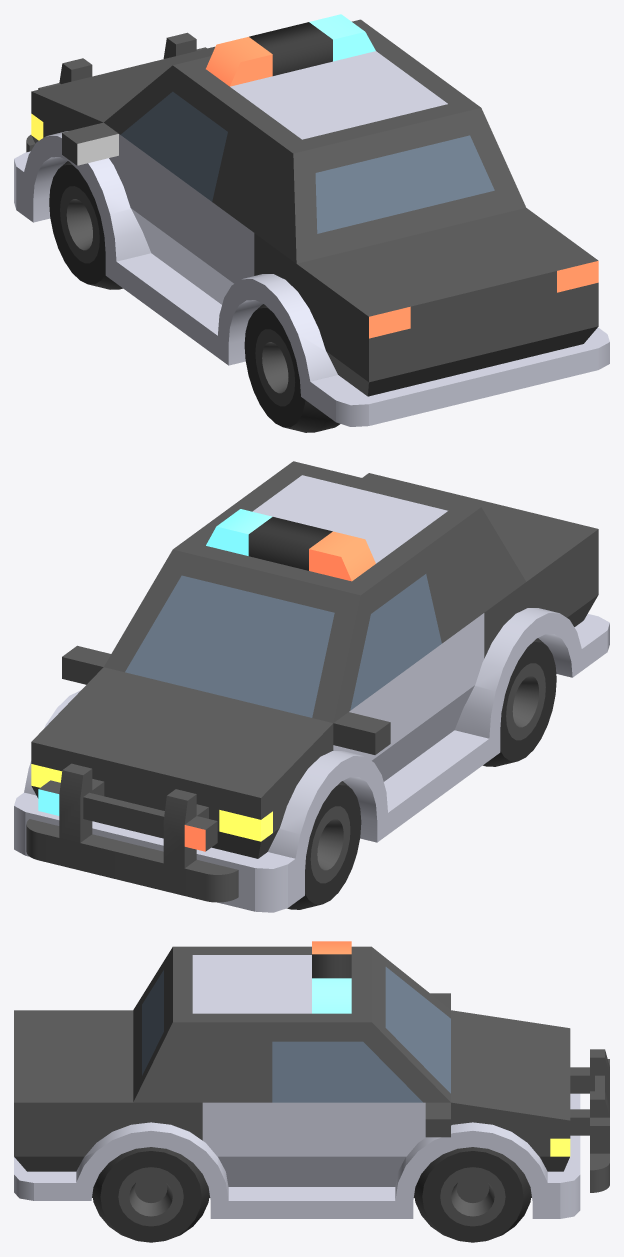
File: police.glb
3 renders of one model, top to bottom at view 1: azimuth 30°, elevation 25°; view 2: azimuth 150°, elevation 25°; view 3: azimuth 270°, elevation 25°, orthographic. The views are drawn at different scales.
Visible parts, largest first — view 1: body, wheel_backLeft, wheel_frontLeft, grill; view 2: body, grill, wheel_backLeft, wheel_frontLeft; view 3: body, wheel_backRight, wheel_frontRight, grill.
Boxes of the visible parts, bbox=[...] form: body: bbox=[14, 14, 609, 426]; wheel_backLeft: bbox=[244, 304, 339, 432]; wheel_frontLeft: bbox=[49, 161, 122, 289]; grill: bbox=[26, 32, 206, 152]; body: bbox=[14, 461, 609, 912]; grill: bbox=[26, 763, 238, 902]; wheel_backLeft: bbox=[483, 638, 556, 766]; wheel_frontLeft: bbox=[287, 781, 361, 909]; body: bbox=[14, 941, 580, 1218]; wheel_backRight: bbox=[92, 1147, 209, 1242]; wheel_frontRight: bbox=[414, 1147, 531, 1242]; grill: bbox=[570, 1049, 609, 1192].
Size of the model in its own units: 1.5 by 1.3 by 3.
